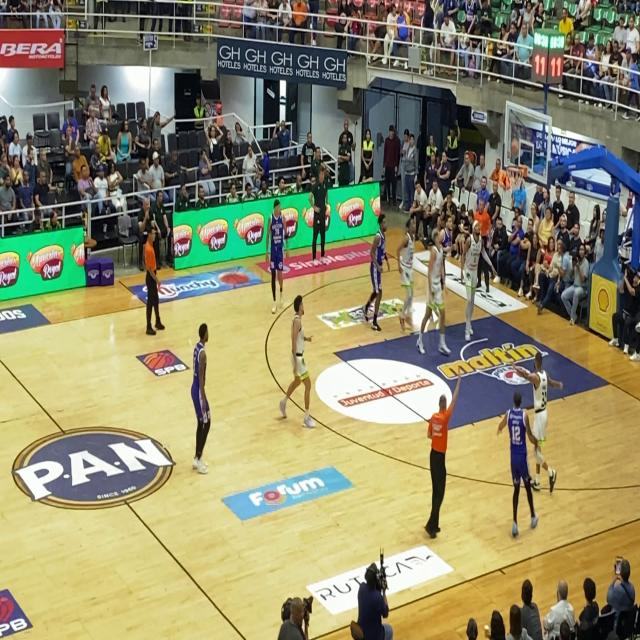Ball: (512, 135, 520, 161)
referee: (411, 376, 457, 548), (138, 215, 168, 338)
team1: (518, 342, 562, 505), (274, 283, 315, 434), (455, 212, 497, 359), (418, 202, 451, 368), (396, 212, 421, 343)
team2: (489, 387, 538, 536), (178, 305, 216, 466), (360, 198, 392, 336), (264, 190, 287, 320)
